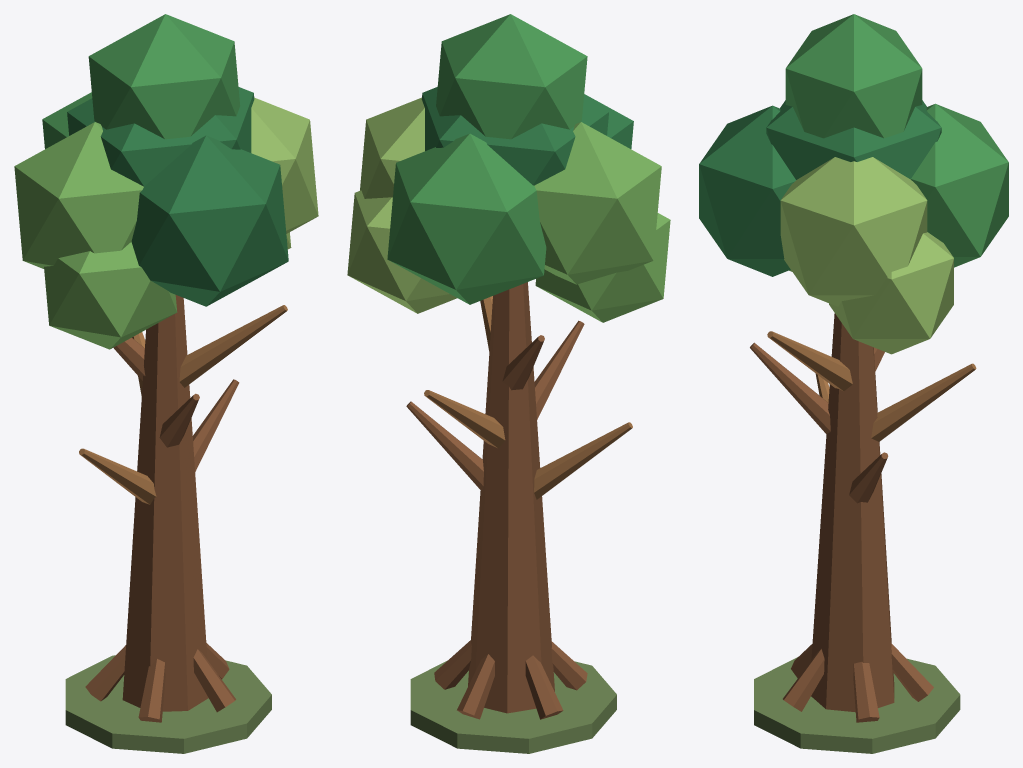
File: LowPoly_Tree.glb
The picture shows the model from 3 angles, left to right: view 1: azimuth 30°, elevation 25°; view 2: azimuth 150°, elevation 25°; view 3: azimuth 270°, elevation 25°; orthographic projection.
Parts seen in each view (by area): view 1: LP Trunk | tapered 7-sided, LP Foliage | faceted crown 05, LP Foliage | faceted crown 02, LP Foliage | faceted crown 03, LP Moss plinth, LP Foliage | faceted crown 07, LP Foliage | faceted crown 01, LP Foliage | faceted crown 04, LP Branch.005, LP Branch.003, LP Root flare.003, LP Branch (+5 smaller); view 2: LP Trunk | tapered 7-sided, LP Foliage | faceted crown 06, LP Foliage | faceted crown 03, LP Foliage | faceted crown 02, LP Moss plinth, LP Foliage | faceted crown 01, LP Foliage | faceted crown 08, LP Foliage | faceted crown 07, LP Foliage | faceted crown 04, LP Branch.003, LP Branch, LP Branch.001 (+7 smaller); view 3: LP Trunk | tapered 7-sided, LP Foliage | faceted crown 04, LP Foliage | faceted crown 02, LP Foliage | faceted crown 05, LP Moss plinth, LP Foliage | faceted crown 06, LP Foliage | faceted crown 08, LP Foliage | faceted crown 01, LP Branch.001, LP Branch.004, LP Branch.005, LP Root flare (+3 smaller).
Part boxes in pixels (x1=…): LP Trunk | tapered 7-sided: x1=122, y1=295, x2=208, y2=711; LP Foliage | faceted crown 05: x1=131, y1=135, x2=288, y2=306; LP Foliage | faceted crown 02: x1=88, y1=14, x2=240, y2=139; LP Foliage | faceted crown 03: x1=14, y1=122, x2=143, y2=268; LP Moss plinth: x1=65, y1=655, x2=271, y2=753; LP Foliage | faceted crown 07: x1=44, y1=242, x2=177, y2=349; LP Foliage | faceted crown 01: x1=67, y1=87, x2=254, y2=186; LP Foliage | faceted crown 04: x1=251, y1=97, x2=318, y2=233; LP Branch.005: x1=179, y1=305, x2=287, y2=387; LP Branch.003: x1=79, y1=448, x2=156, y2=504; LP Root flare.003: x1=138, y1=659, x2=165, y2=722; LP Branch: x1=192, y1=379, x2=239, y2=471; LP Trunk | tapered 7-sided: x1=468, y1=282, x2=554, y2=713; LP Foliage | faceted crown 06: x1=387, y1=133, x2=546, y2=304; LP Foliage | faceted crown 03: x1=534, y1=122, x2=661, y2=284; LP Foliage | faceted crown 02: x1=436, y1=14, x2=587, y2=139; LP Moss plinth: x1=410, y1=660, x2=616, y2=753; LP Foliage | faceted crown 01: x1=421, y1=87, x2=608, y2=185; LP Foliage | faceted crown 08: x1=347, y1=190, x2=457, y2=313; LP Foliage | faceted crown 07: x1=535, y1=213, x2=670, y2=322; LP Foliage | faceted crown 04: x1=360, y1=97, x2=424, y2=198; LP Branch.003: x1=534, y1=422, x2=632, y2=499; LP Branch: x1=406, y1=401, x2=483, y2=491; LP Branch.001: x1=424, y1=390, x2=505, y2=448; LP Trunk | tapered 7-sided: x1=811, y1=313, x2=894, y2=712; LP Foliage | faceted crown 04: x1=780, y1=157, x2=927, y2=306; LP Foliage | faceted crown 02: x1=785, y1=14, x2=922, y2=138; LP Foliage | faceted crown 05: x1=699, y1=105, x2=795, y2=276; LP Moss plinth: x1=754, y1=657, x2=960, y2=753; LP Foliage | faceted crown 06: x1=911, y1=103, x2=1008, y2=267; LP Foliage | faceted crown 08: x1=829, y1=232, x2=953, y2=354; LP Foliage | faceted crown 01: x1=766, y1=100, x2=941, y2=179; LP Branch.001: x1=871, y1=363, x2=976, y2=441; LP Branch.004: x1=750, y1=342, x2=830, y2=433; LP Branch.005: x1=767, y1=331, x2=852, y2=391; LP Root flare: x1=853, y1=662, x2=879, y2=722.
Bounding box in the file's own units: 3.18 × 7.35 × 2.97.
